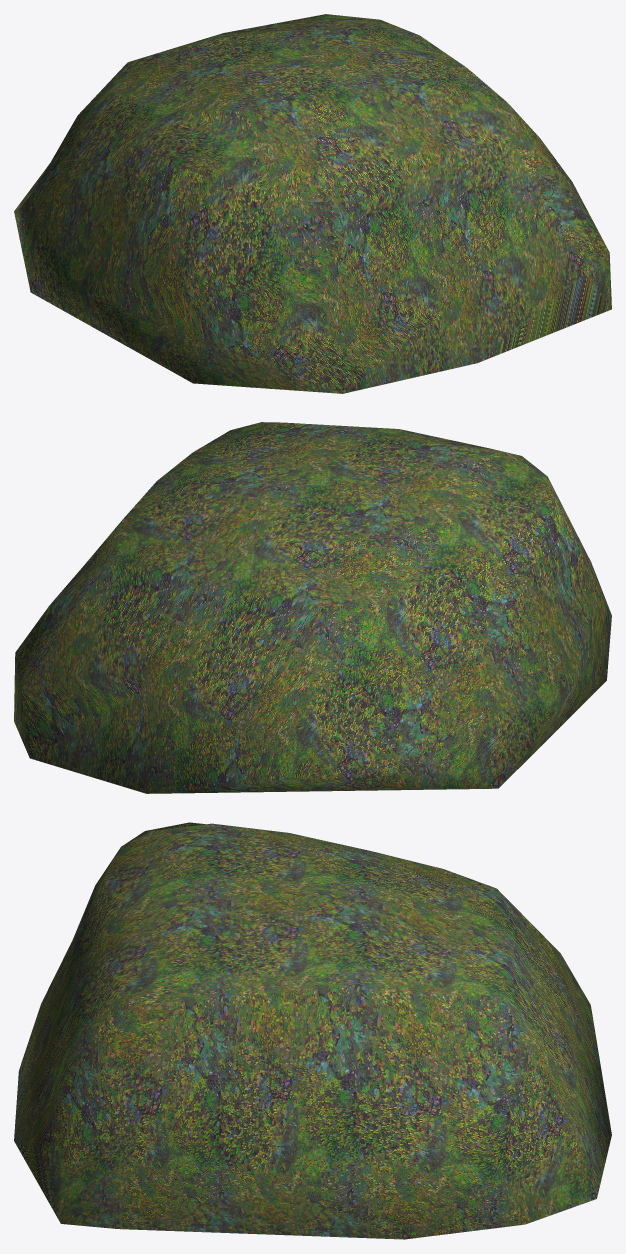
The model's file is rock_mossy_big_a1_l1.fbx.
3 renders of one model, top to bottom at view 1: azimuth 30°, elevation 25°; view 2: azimuth 150°, elevation 25°; view 3: azimuth 270°, elevation 25°, orthographic. The views are drawn at different scales.
Parts seen in each view (by area): view 1: mesh_node; view 2: mesh_node; view 3: mesh_node.
Part boxes in pixels (x1,y1,x2,y2): mesh_node: (14,14,611,393); mesh_node: (14,422,611,793); mesh_node: (14,822,611,1239).
Bounding box in the file's own units: 6.29 × 2.94 × 6.58.
